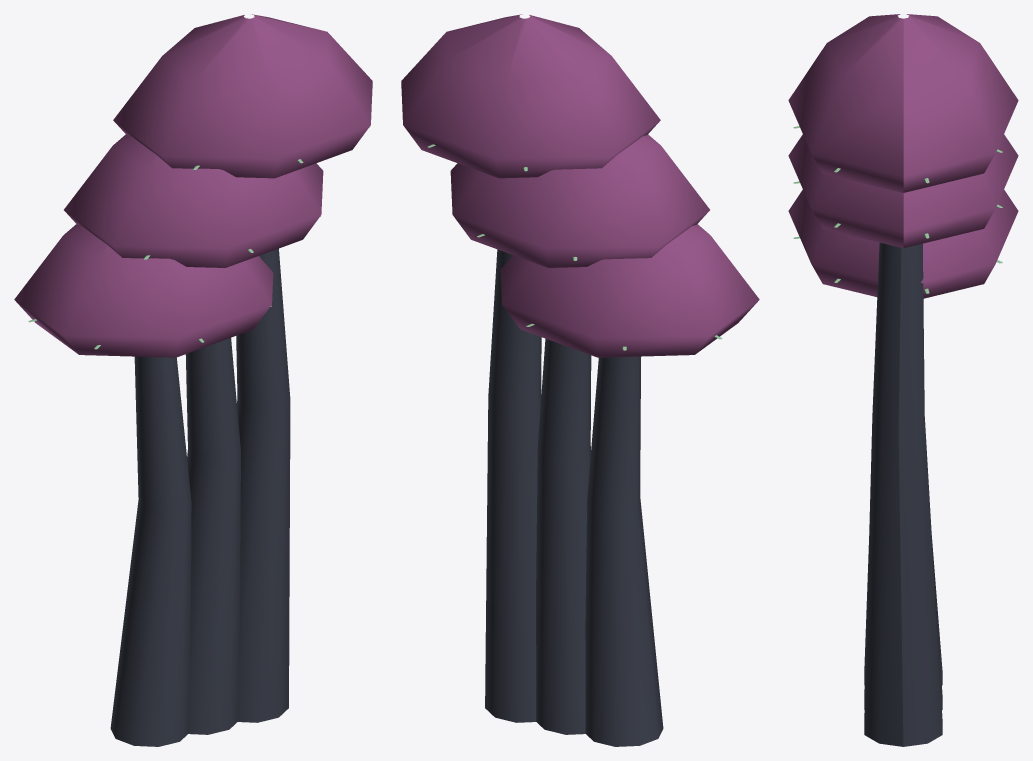
Rendered from prop_1_2.glb.
3 renders of one model, left to right at view 1: azimuth 30°, elevation 25°; view 2: azimuth 150°, elevation 25°; view 3: azimuth 270°, elevation 25°, orthographic. The views are drawn at different scales.
Visible parts, largest first — view 1: FungalCap (×3), FungalStem (×3); view 2: FungalCap (×3), FungalStem (×3); view 3: FungalCap (×3), FungalStem.
Part boxes in pixels (x1,y1,x2,y2): FungalCap (×3): [14, 14, 372, 357]; FungalStem (×3): [110, 248, 290, 746]; FungalCap (×3): [401, 14, 759, 357]; FungalStem (×3): [485, 249, 663, 746]; FungalCap (×3): [788, 14, 1018, 298]; FungalStem: [864, 242, 942, 746].
Size of the model in its own units: 4.05 by 8 by 2.34.
